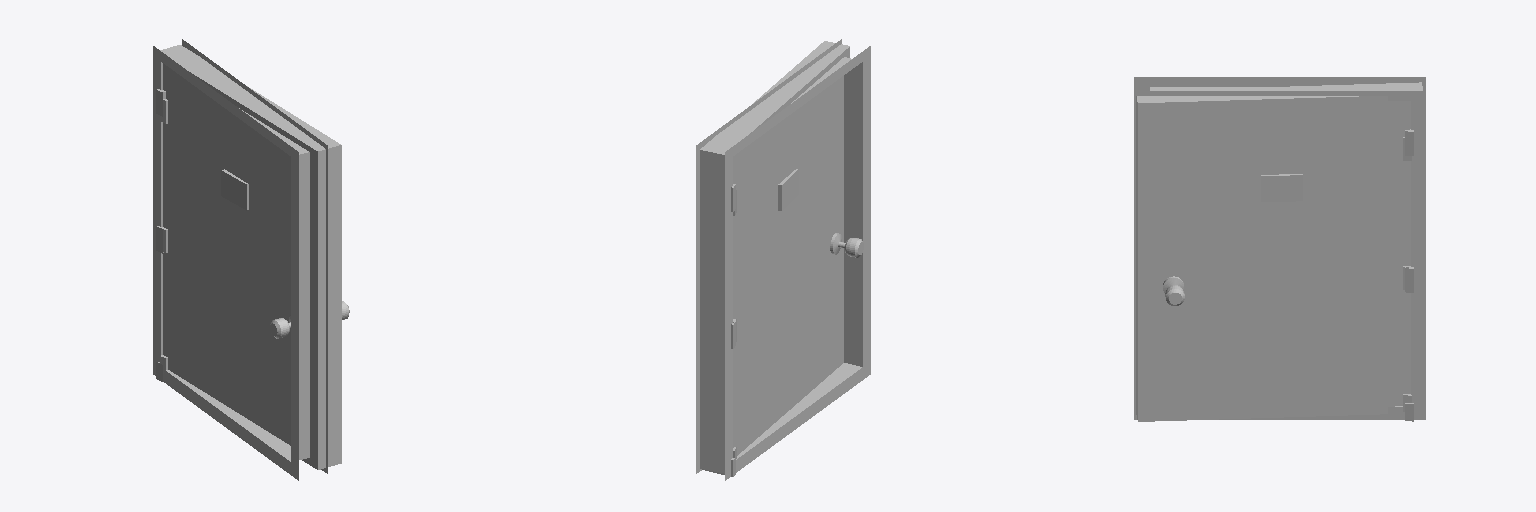
File: Door_3_Open6.obj
3 views of the same model, side by side, from view 1: azimuth 30°, elevation 25°; view 2: azimuth 150°, elevation 25°; view 3: azimuth 270°, elevation 25° (orthographic).
Visible parts, largest first — view 1: Shortish_Door, Frame_Door.003; view 2: Shortish_Door, Frame_Door.003; view 3: Shortish_Door, Frame_Door.003.
Part boxes in pixels (x1,y1,x2,y2): Shortish_Door: (160,45,349,469); Frame_Door.003: (153,39,327,480); Shortish_Door: (700,41,863,473); Frame_Door.003: (696,39,870,480); Shortish_Door: (1136,82,1422,421); Frame_Door.003: (1134,77,1425,421).
Bounding box in the file's own units: 0.2889 × 1.19 × 0.9586.